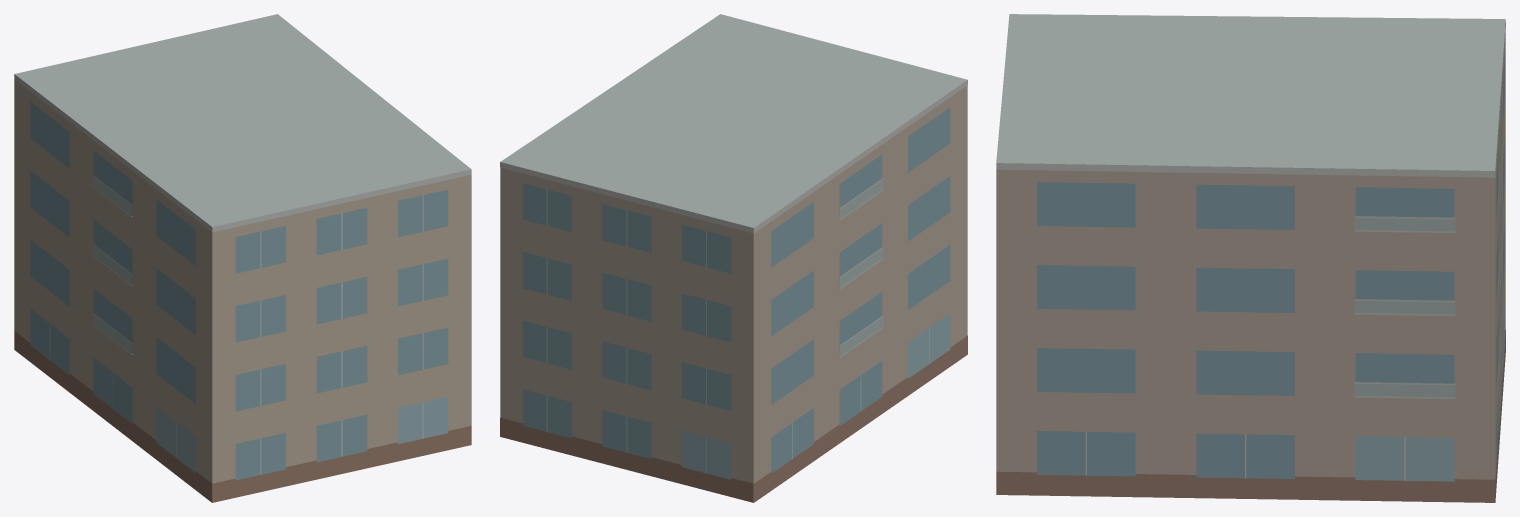
The model's file is survey-upis-32654375.glb.
3 renders of one model, left to right at view 1: azimuth 30°, elevation 25°; view 2: azimuth 150°, elevation 25°; view 3: azimuth 270°, elevation 25°, orthographic. The views are drawn at different scales.
Visible parts, largest first — view 1: survey-upis-32654375.tmp; view 2: survey-upis-32654375.tmp; view 3: survey-upis-32654375.tmp.
Boxes of the visible parts, x1,y1,x2,y2 form: survey-upis-32654375.tmp: (14, 14, 471, 502); survey-upis-32654375.tmp: (500, 14, 967, 502); survey-upis-32654375.tmp: (996, 14, 1505, 502).
Bounding box in the file's own units: 12.39 × 12.2 × 16.99.
